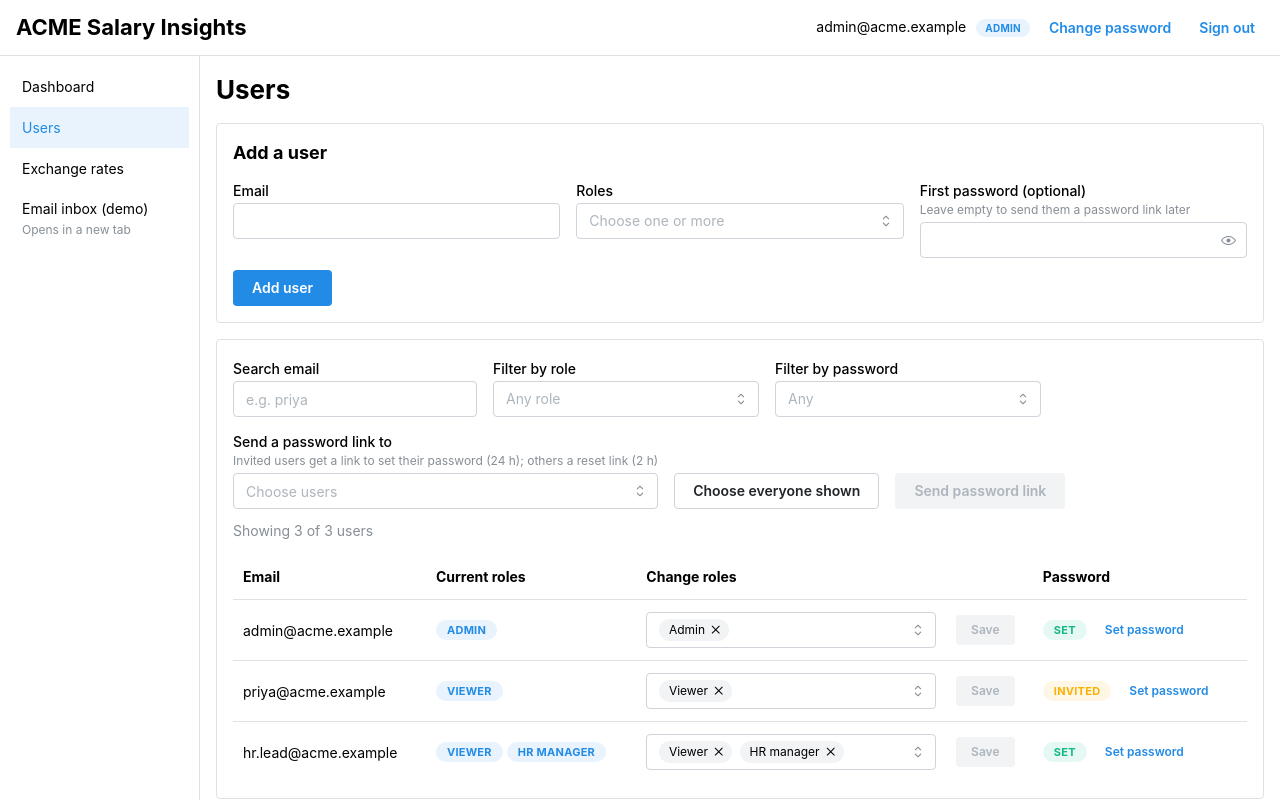
Test: Users (admin) › shows why a role change was refused, on that row
Step 1. Click the field named "Roles for admin@acme.example" → {"x": 694, "y": 630}, box x1=659 y1=619 x2=729 y2=641
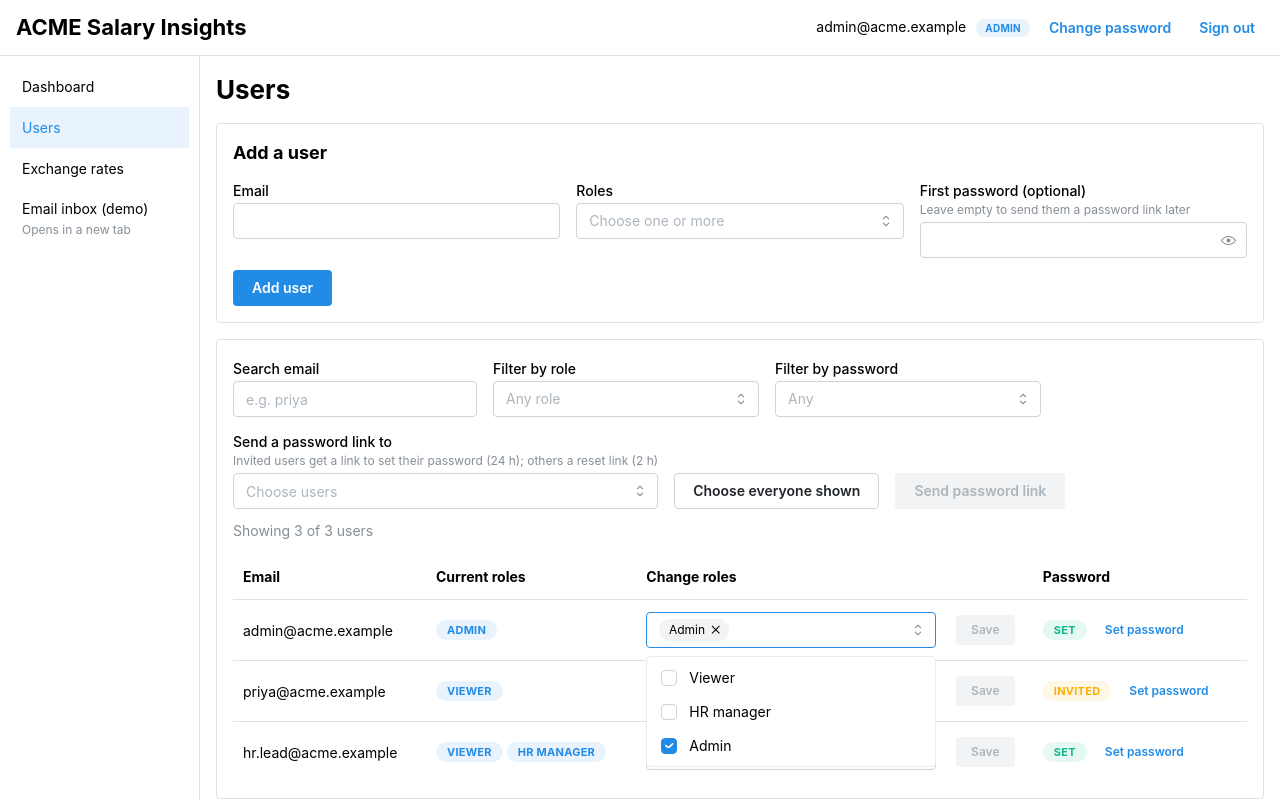
Step 2. Click the option "Viewer" → {"x": 698, "y": 678}, box x1=661 y1=669 x2=735 y2=686
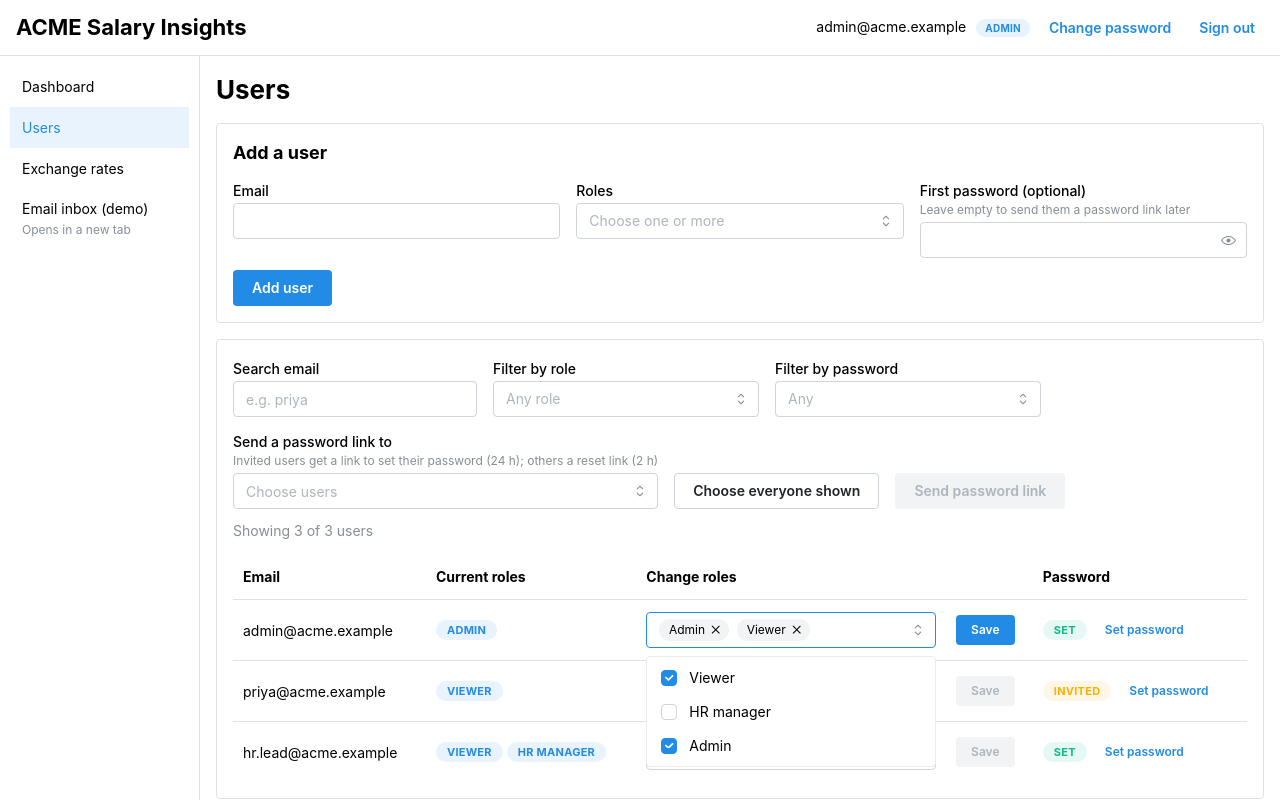
Step 3. Press Escape
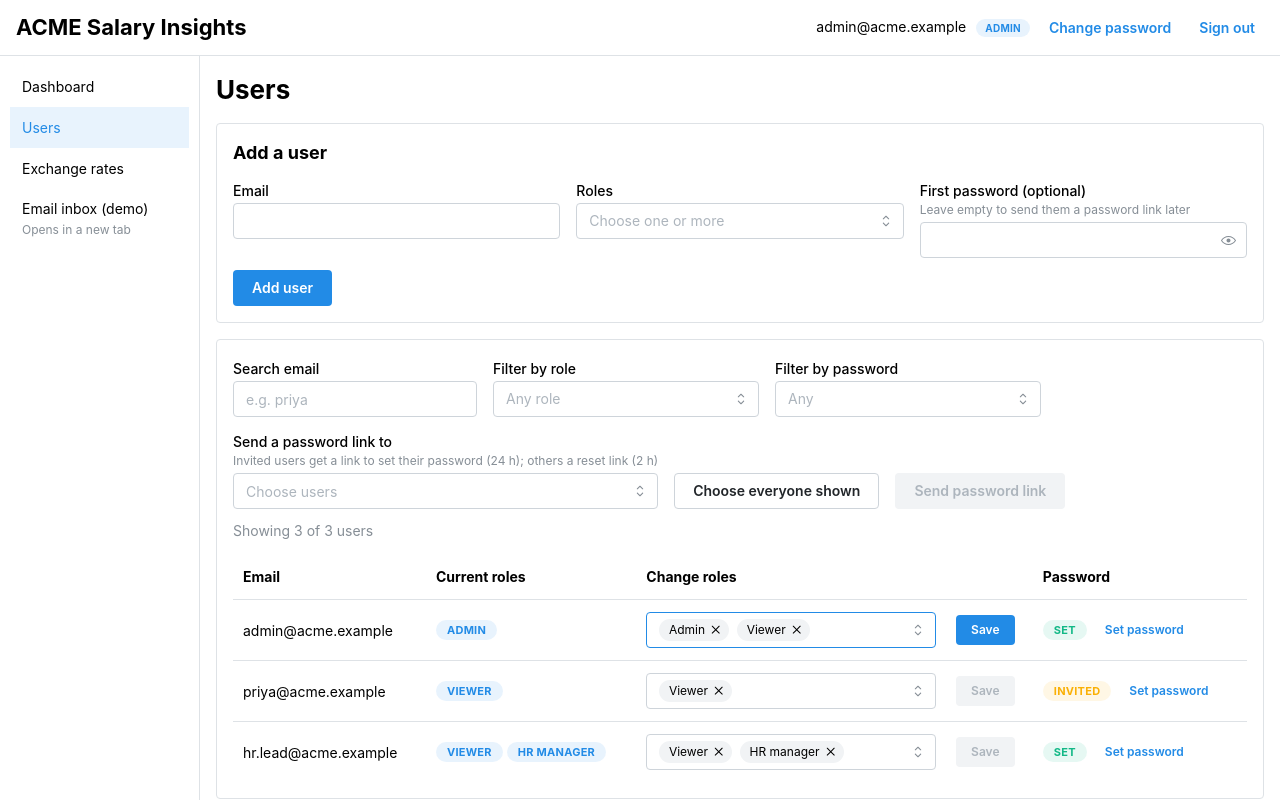
Step 4. Click the 1st button "Save" → {"x": 985, "y": 630}, box x1=956 y1=615 x2=1014 y2=645
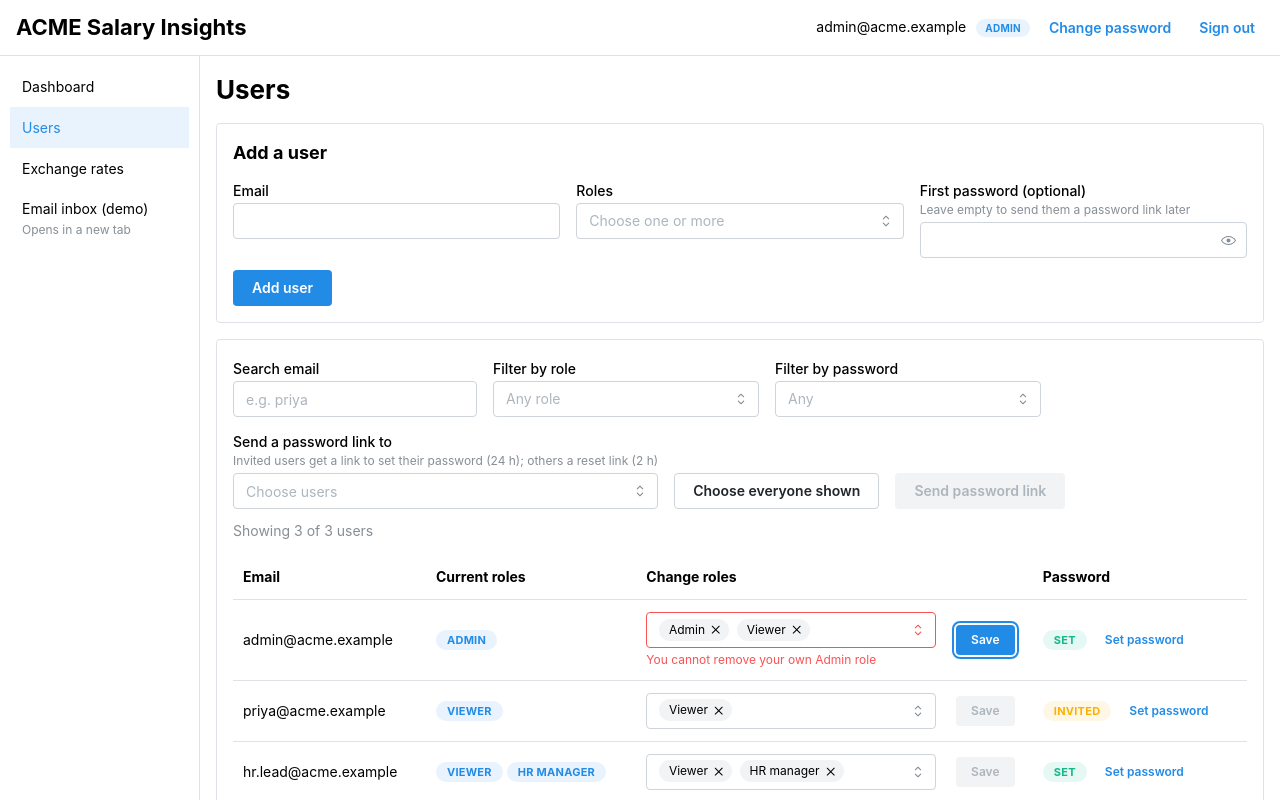
Result: the text "You cannot remove your own Admin role" is shown at x1=646 y1=652 x2=876 y2=667
